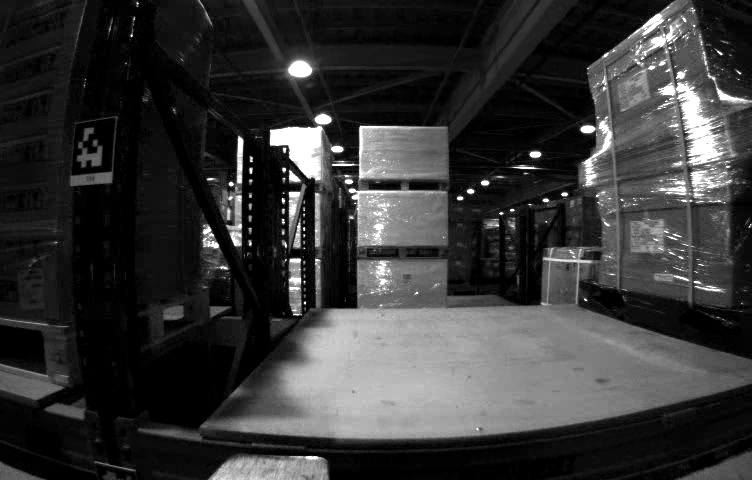True Barcode: (18, 264, 49, 308)
